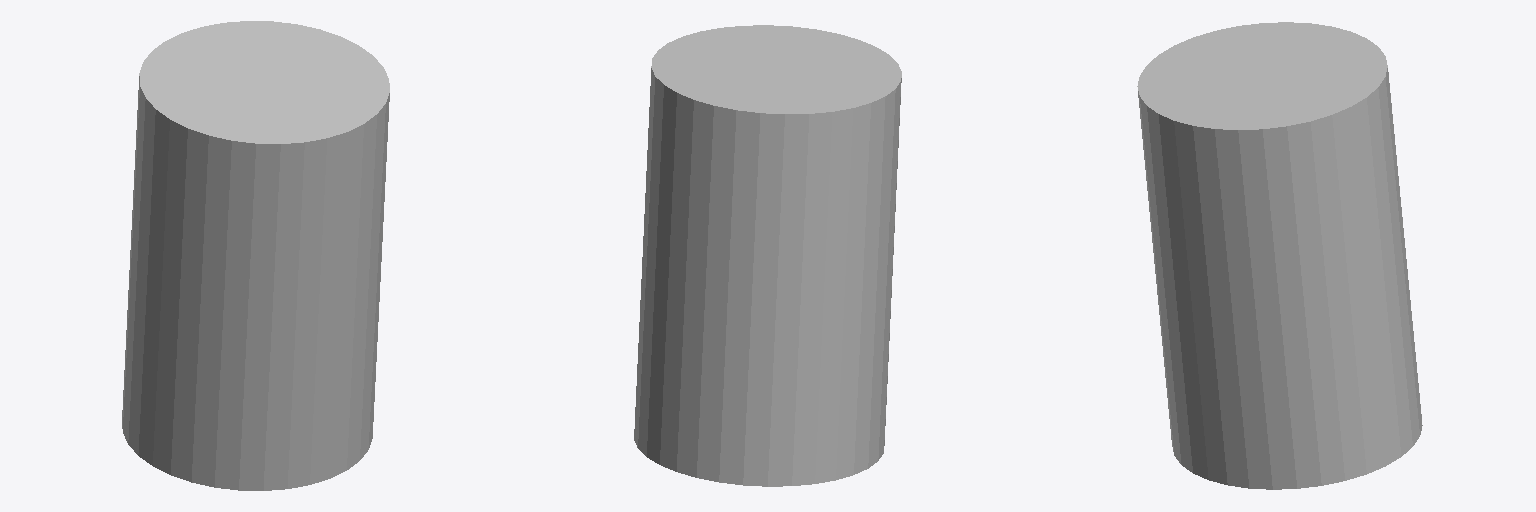
File: enchu.obj
3 renders of one model, left to right at view 1: azimuth 30°, elevation 25°; view 2: azimuth 150°, elevation 25°; view 3: azimuth 270°, elevation 25°, orthographic.
Visible parts, largest first — view 1: 円柱; view 2: 円柱; view 3: 円柱.
Part boxes in pixels (left/top/right/bottom): 円柱: left=122, top=21, right=389, bottom=490; 円柱: left=634, top=25, right=901, bottom=486; 円柱: left=1137, top=22, right=1422, bottom=489.
Size of the model in its own units: 1 by 1.66 by 1.13.